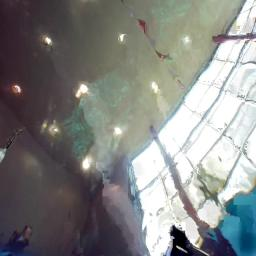Full: (161, 226, 211, 256)
